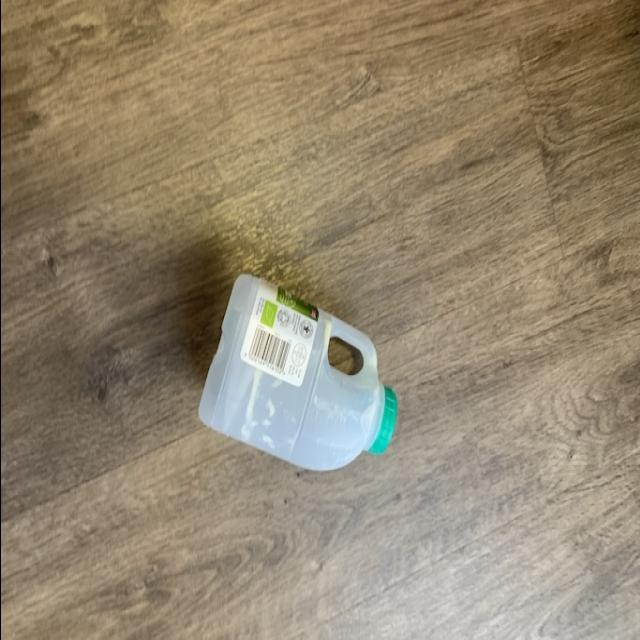litter: (190, 279, 402, 470)
